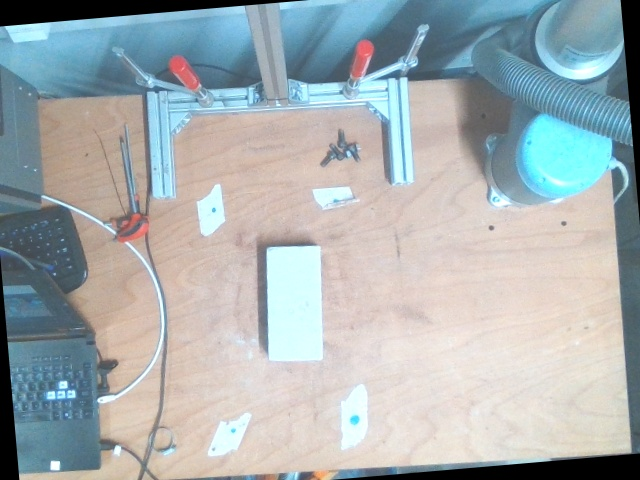brick: (265, 247, 322, 359)
